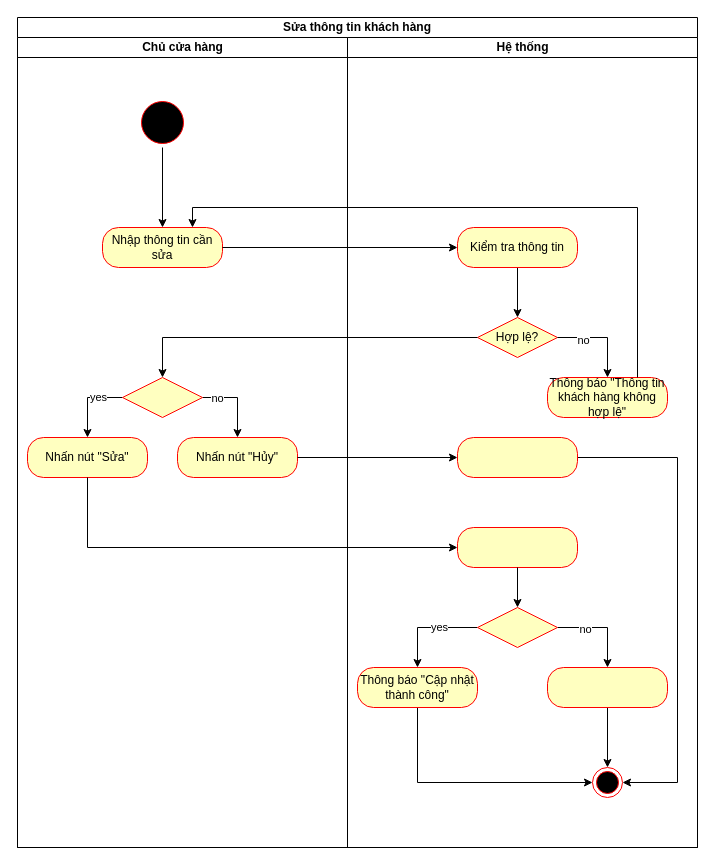
The diagram is 715 pixels wide and 865 high, and some of its shapes have lost their labels. Each missing label, with the box of its shape:
Cập nhật thông tin sửa: (456, 526, 578, 568)
Thành công?: (476, 606, 558, 648)
Thông báo "Cập nhật không thành công": (546, 666, 668, 708)
Xác nhận sửa?: (122, 376, 202, 418)
Xóa thông tin sửa: (456, 436, 578, 478)
